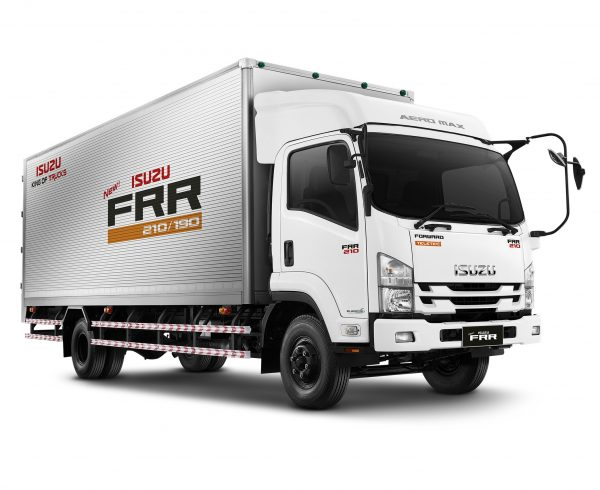truck: (20, 55, 542, 411)
